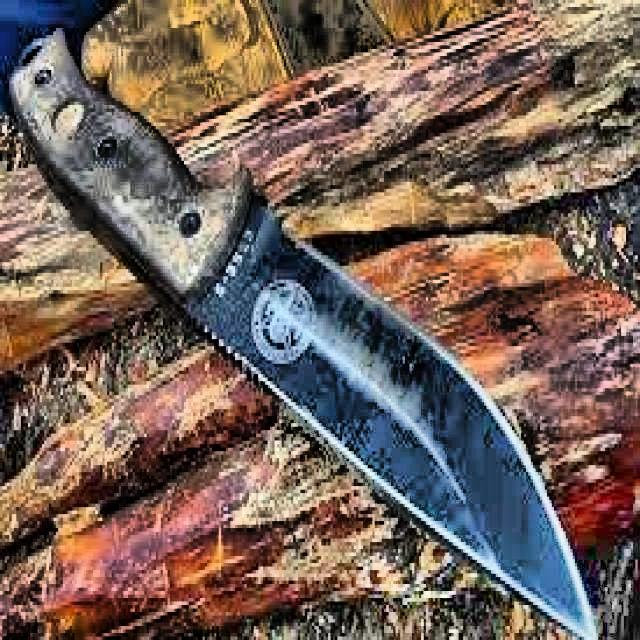knife: (7, 31, 603, 640)
